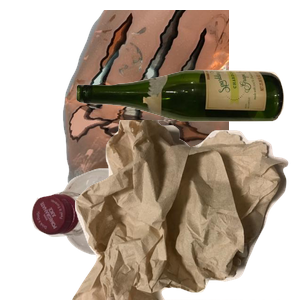glass: (74, 67, 300, 181)
metal: (60, 10, 300, 190)
plastic: (29, 166, 183, 300)
trash: (70, 120, 300, 300)
